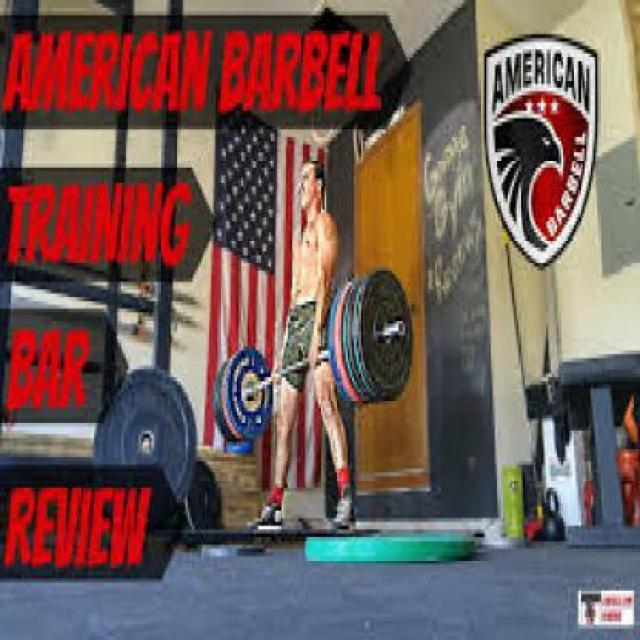Barbell: (390, 308, 408, 343)
